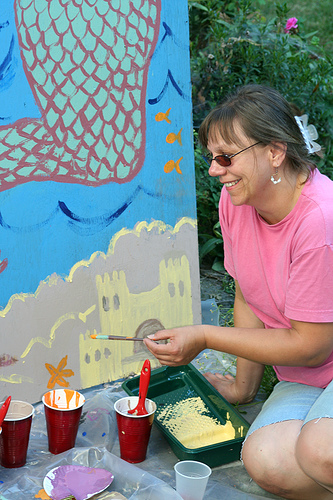without_mask: (197, 112, 309, 215)
